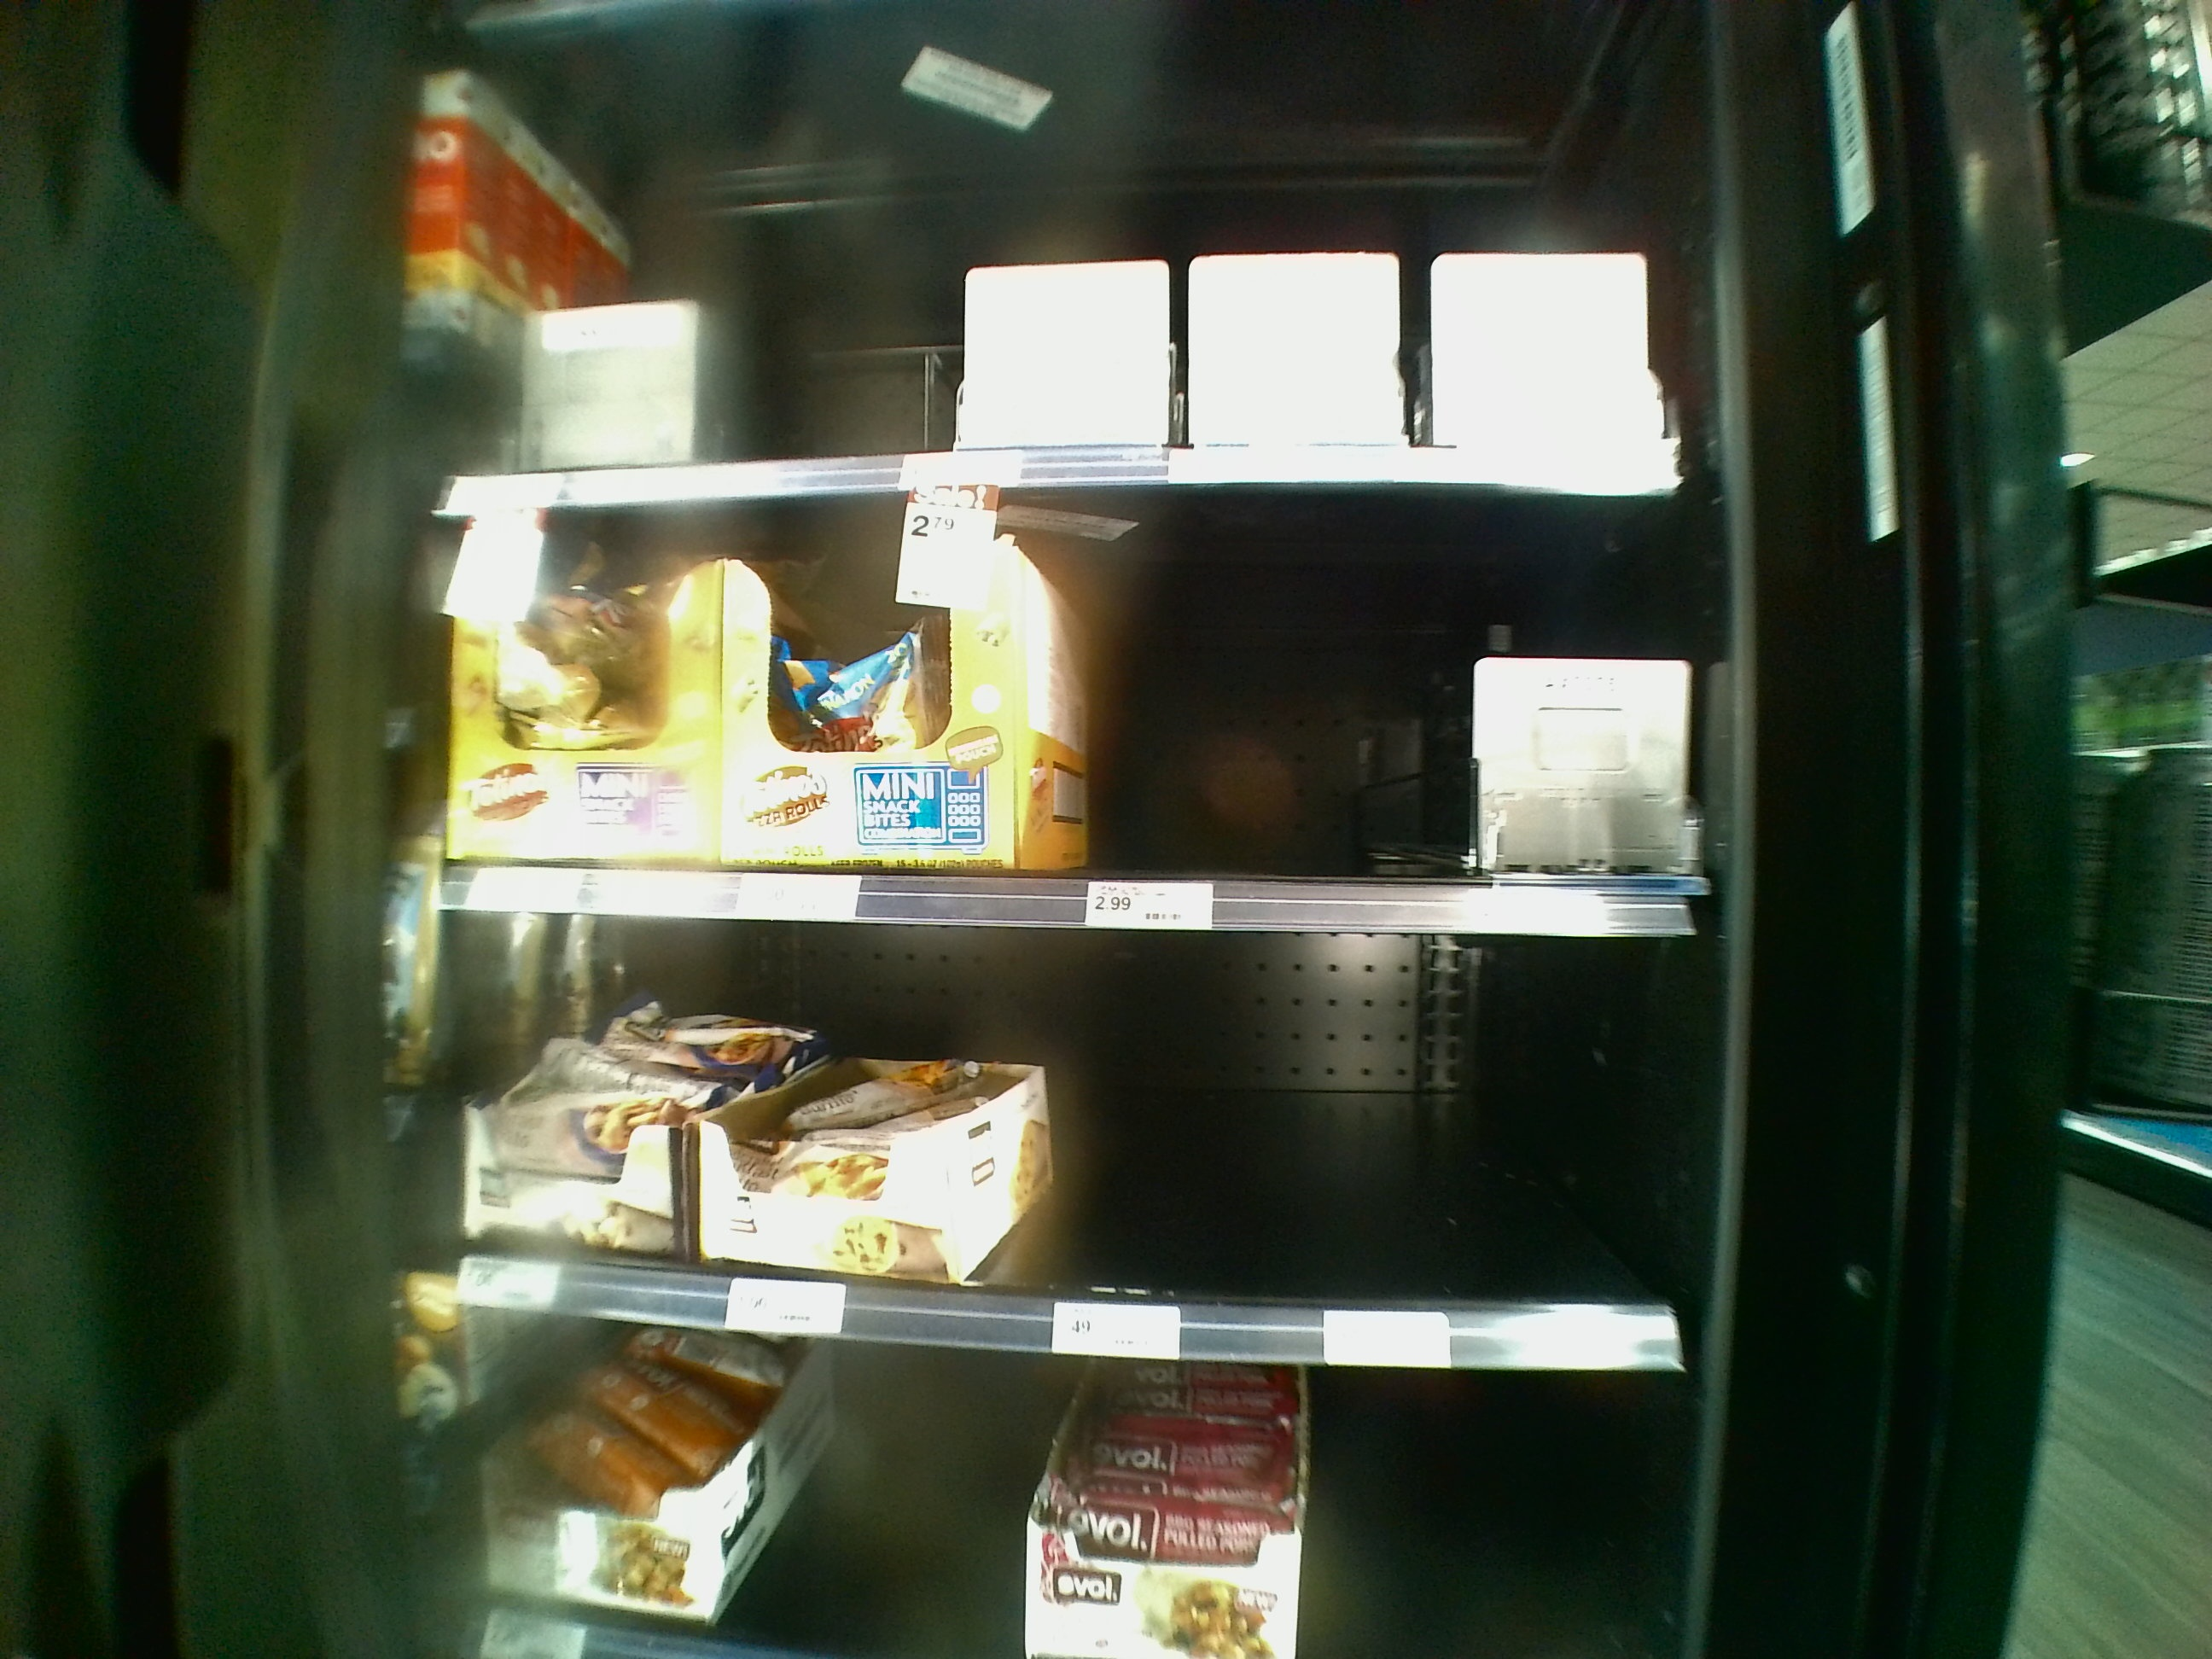shelf: (474, 23, 1698, 495), (469, 910, 1689, 1363), (469, 495, 1688, 936)
